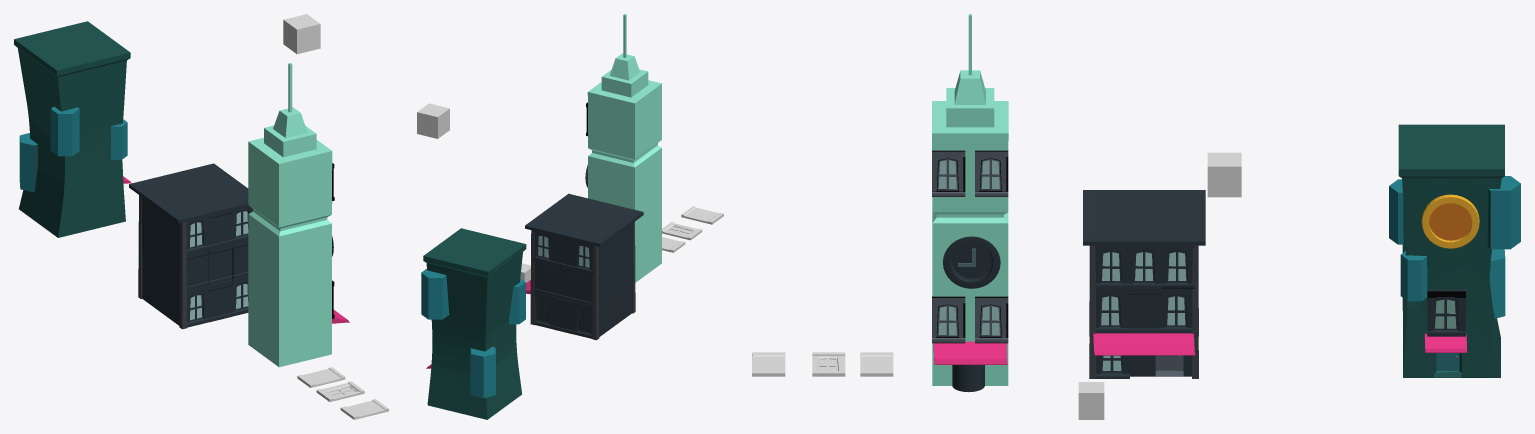
File: ClockBuilding.fbx
3 renders of one model, left to right at view 1: azimuth 30°, elevation 25°; view 2: azimuth 150°, elevation 25°; view 3: azimuth 270°, elevation 25°, orthographic. The views are drawn at different scales.
Visible parts, largest first — view 1: Aween.002, WindowPlane.001, AweenBuillding, ScaleBox, NoGaps.001, NoGaps, WindowPlane; view 2: Aween.002, AweenBuillding, WindowPlane.001, ScaleBox, NoGaps.001, WindowPlane; view 3: Aween.002, WindowPlane.001, AweenBuillding, ScaleBox, HackwizScale, NoGaps, NoGaps.001, WindowPlane.
Boxes of the visible parts, x1,y1,x2,y2 form: Aween.002: (14, 21, 131, 237); WindowPlane.001: (248, 63, 349, 367); AweenBuillding: (129, 163, 252, 329); ScaleBox: (283, 14, 320, 54); NoGaps.001: (340, 399, 388, 419); NoGaps: (297, 367, 345, 387); WindowPlane: (316, 381, 364, 401); Aween.002: (421, 228, 526, 419); AweenBuillding: (525, 193, 643, 340); WindowPlane.001: (585, 14, 661, 282); ScaleBox: (417, 103, 449, 138); NoGaps.001: (681, 206, 723, 224); WindowPlane: (662, 222, 702, 240); Aween.002: (1389, 124, 1520, 377); WindowPlane.001: (932, 14, 1008, 392); AweenBuillding: (1083, 190, 1205, 378); ScaleBox: (1207, 152, 1241, 197); HackwizScale: (1078, 382, 1104, 419); NoGaps: (860, 352, 893, 376); NoGaps.001: (752, 352, 785, 376); WindowPlane: (812, 352, 845, 376).
Bounding box in the file's own units: 1636 × 2342 × 4553.
